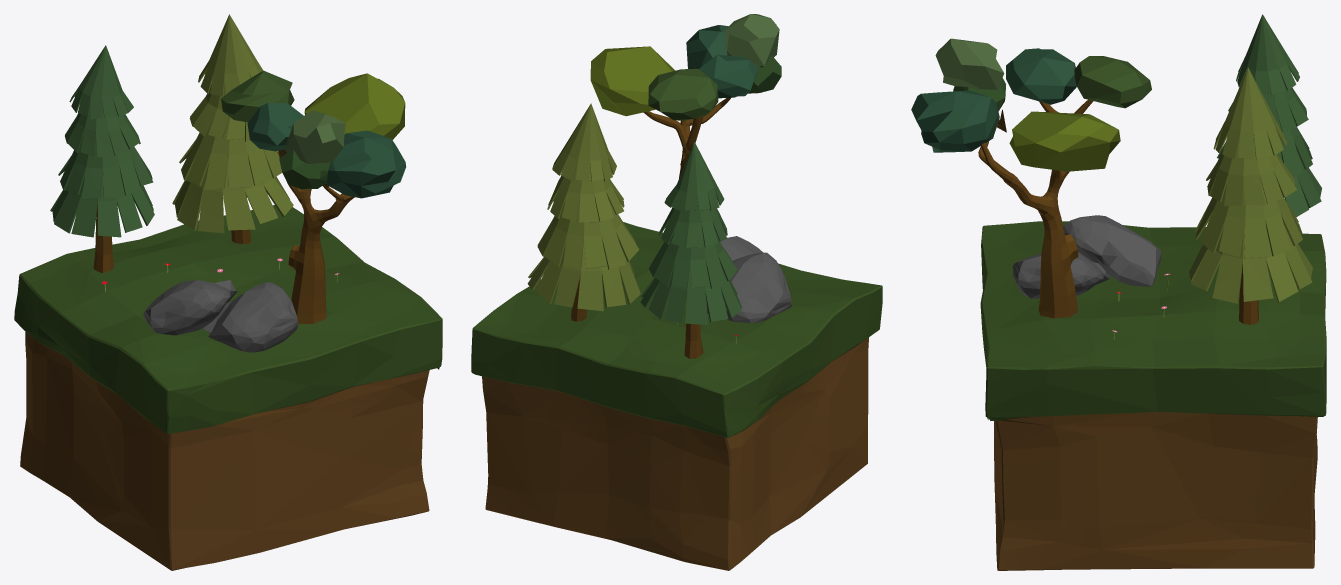
The model's file is tile_trees1.min.gltf.
The picture shows the model from 3 angles, left to right: view 1: azimuth 30°, elevation 25°; view 2: azimuth 150°, elevation 25°; view 3: azimuth 270°, elevation 25°; orthographic projection. The views are drawn at different scales.
Parts seen in each view (by area): view 1: CENTERED.034, tree trunk.005, christmas tree.013, christmas tree.007, Cube.015, Cube.020; view 2: CENTERED.034, tree trunk.005, christmas tree.013, christmas tree.007, Cube.020, Cube.015; view 3: CENTERED.034, tree trunk.005, christmas tree.013, christmas tree.007, Cube.020, Cube.015.
Part boxes in pixels (x1,y1,x2,y2): CENTERED.034: (14, 205, 442, 570); tree trunk.005: (221, 70, 406, 323); christmas tree.013: (172, 14, 293, 244); christmas tree.007: (50, 45, 154, 272); Cube.015: (203, 282, 298, 352); Cube.020: (143, 280, 236, 335); CENTERED.034: (471, 222, 882, 570); tree trunk.005: (590, 14, 781, 178); christmas tree.013: (527, 103, 640, 321); christmas tree.007: (640, 141, 741, 358); Cube.020: (706, 252, 791, 323); Cube.015: (720, 236, 762, 260); CENTERED.034: (980, 221, 1326, 570); tree trunk.005: (911, 38, 1151, 318); christmas tree.013: (1189, 67, 1312, 324); christmas tree.007: (1217, 14, 1321, 217); Cube.020: (1063, 215, 1161, 286); Cube.015: (1012, 252, 1109, 298).
Size of the model in its own units: 1.09 by 1.61 by 1.29.
